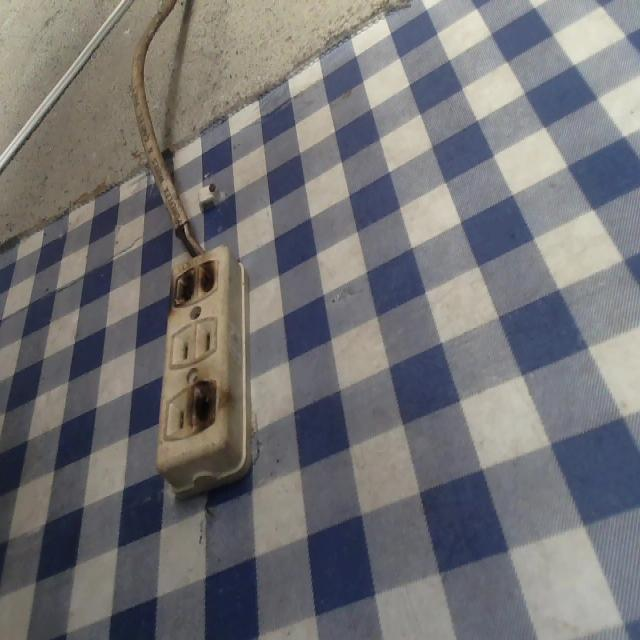-: (166, 252, 223, 312), (182, 373, 234, 438)
